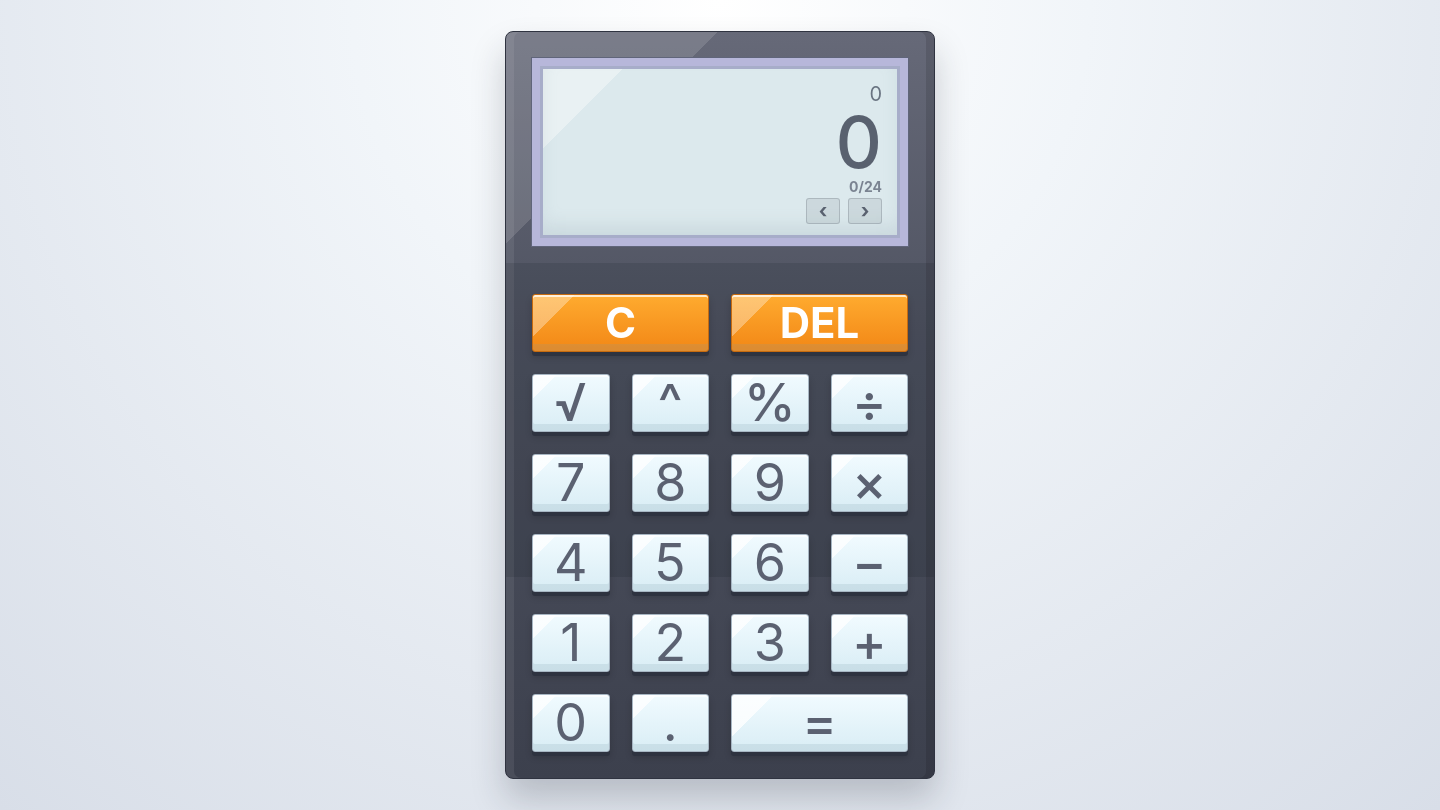
App error handling › clears errors when the user continues editing
Click the button "6" at (770, 563), box [731,534,808,592]
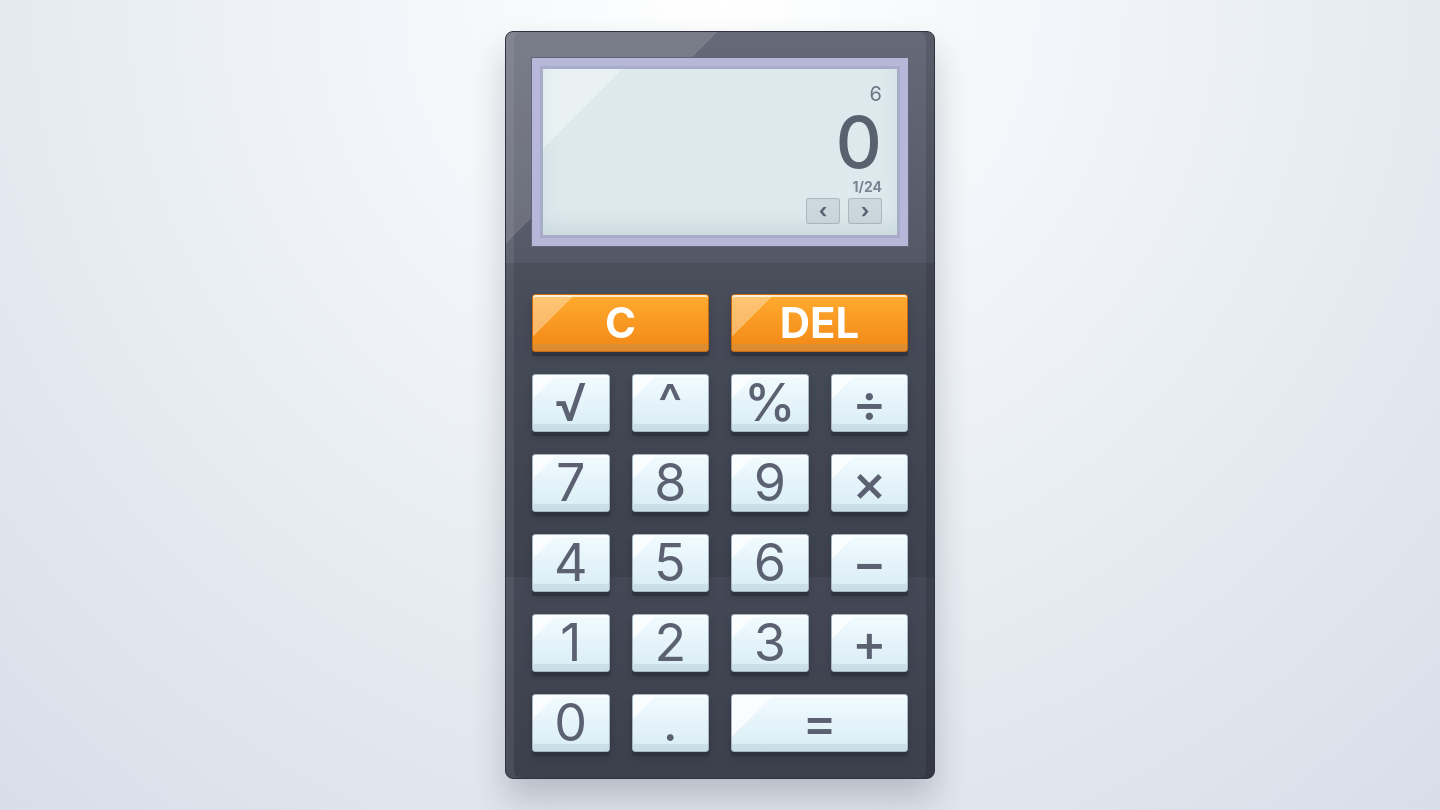
Click the button named "Dividir" at (869, 403), box [830,374,908,432]
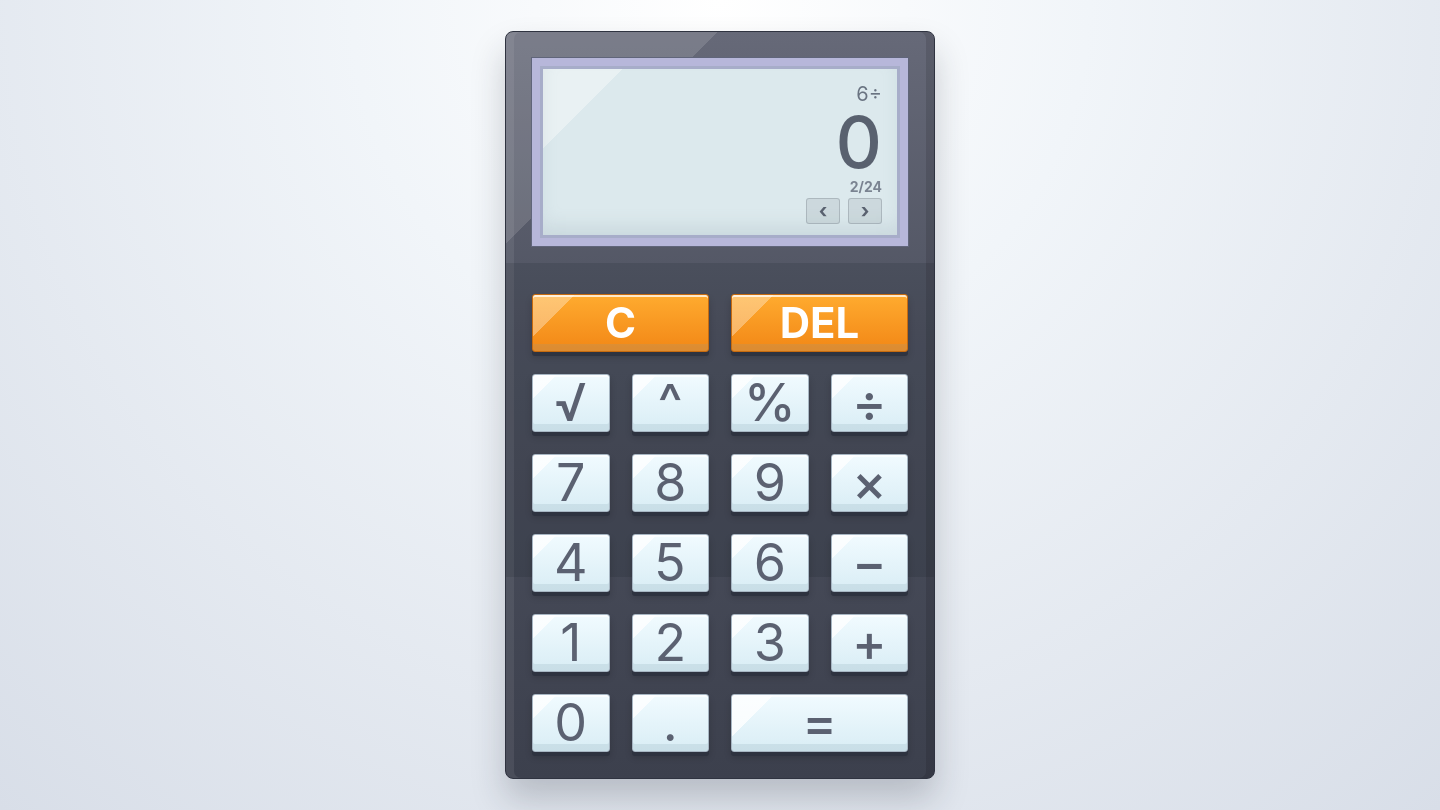
Click the button "0" at (571, 723), box [532,694,610,752]
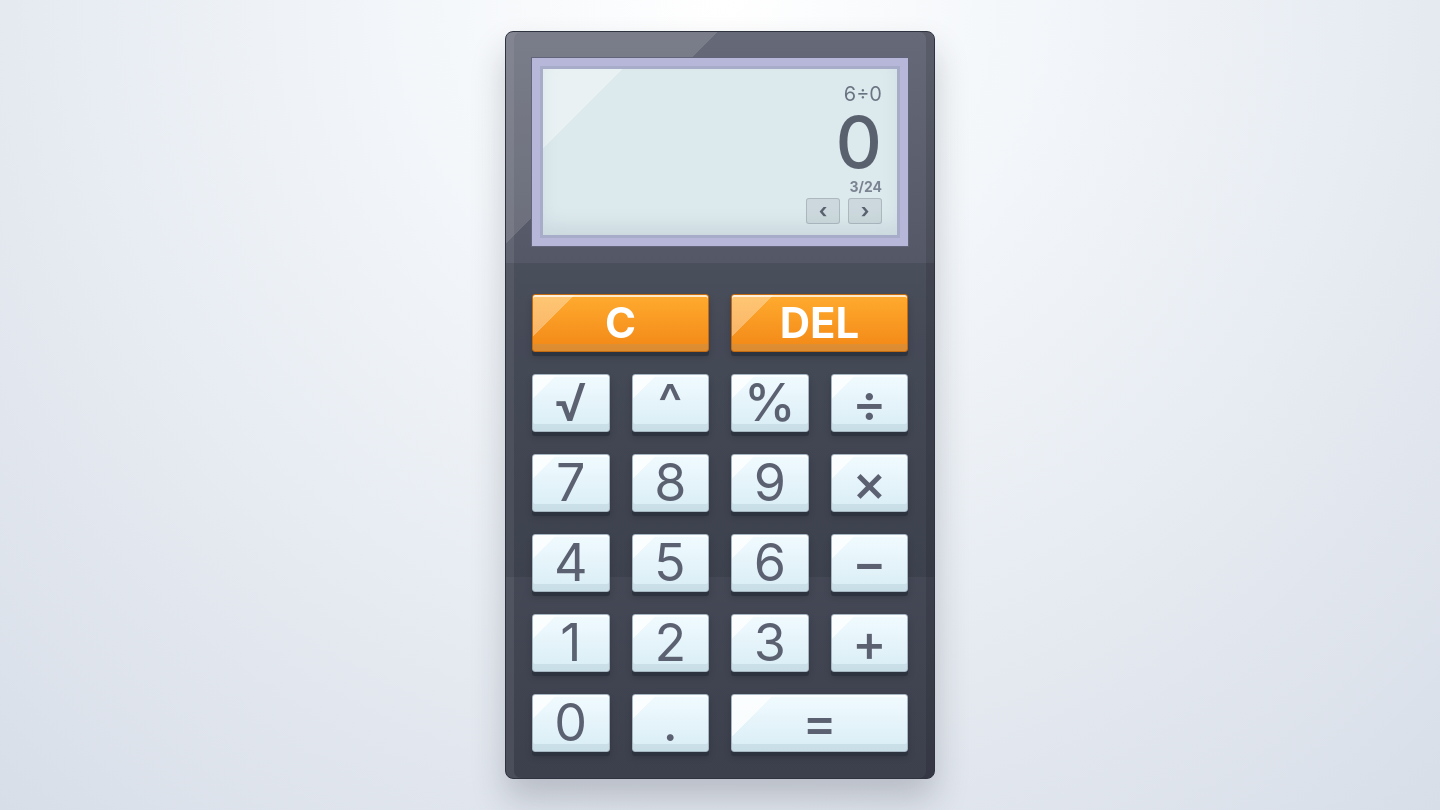
Click the button named "Calcular" at (820, 723), box [731,694,908,752]
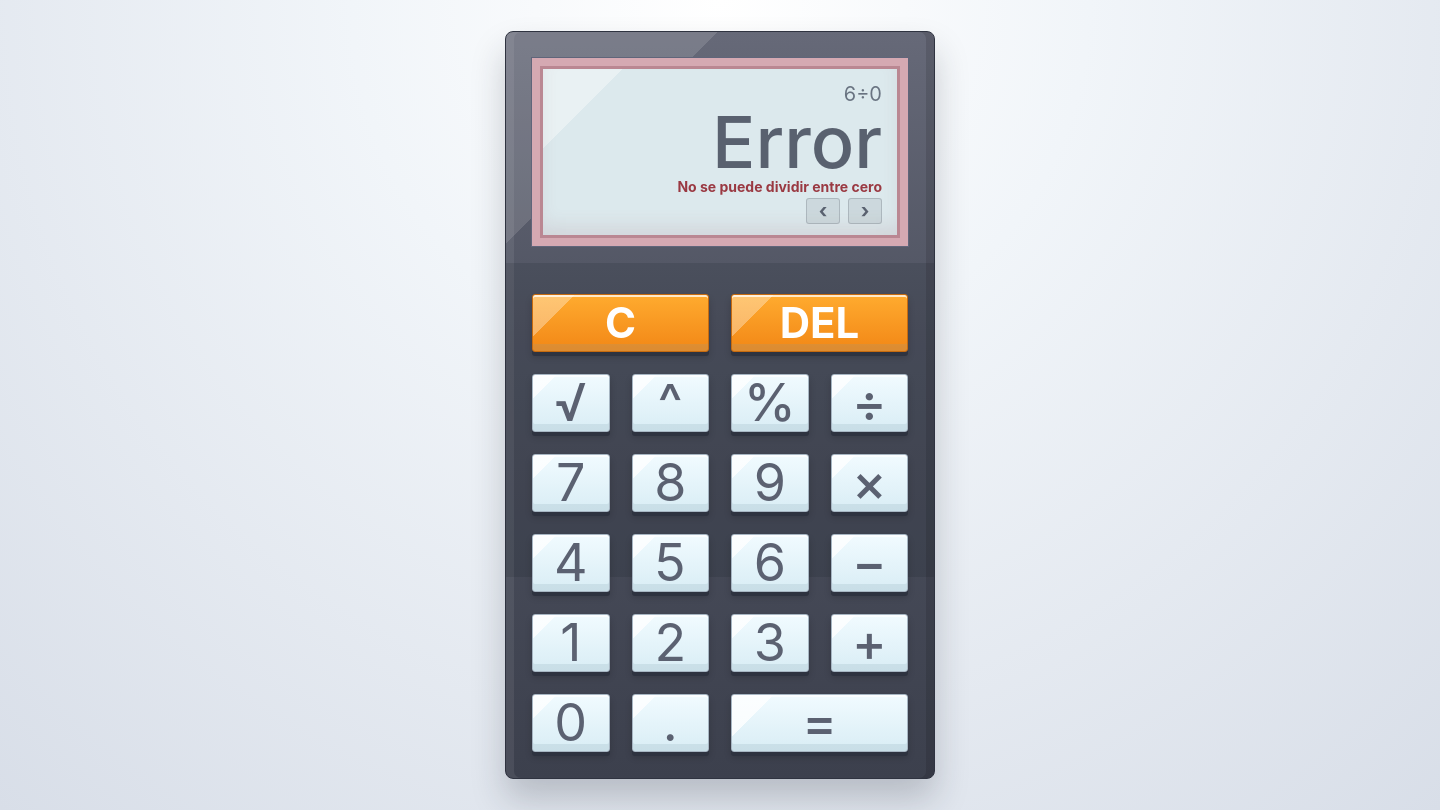
Check: the text with test id "result-display" reads "Error", box [712,98,882,185]
Click the button with aria-label "Eliminar ultimo caracter" at (820, 323), box [731,294,908,352]
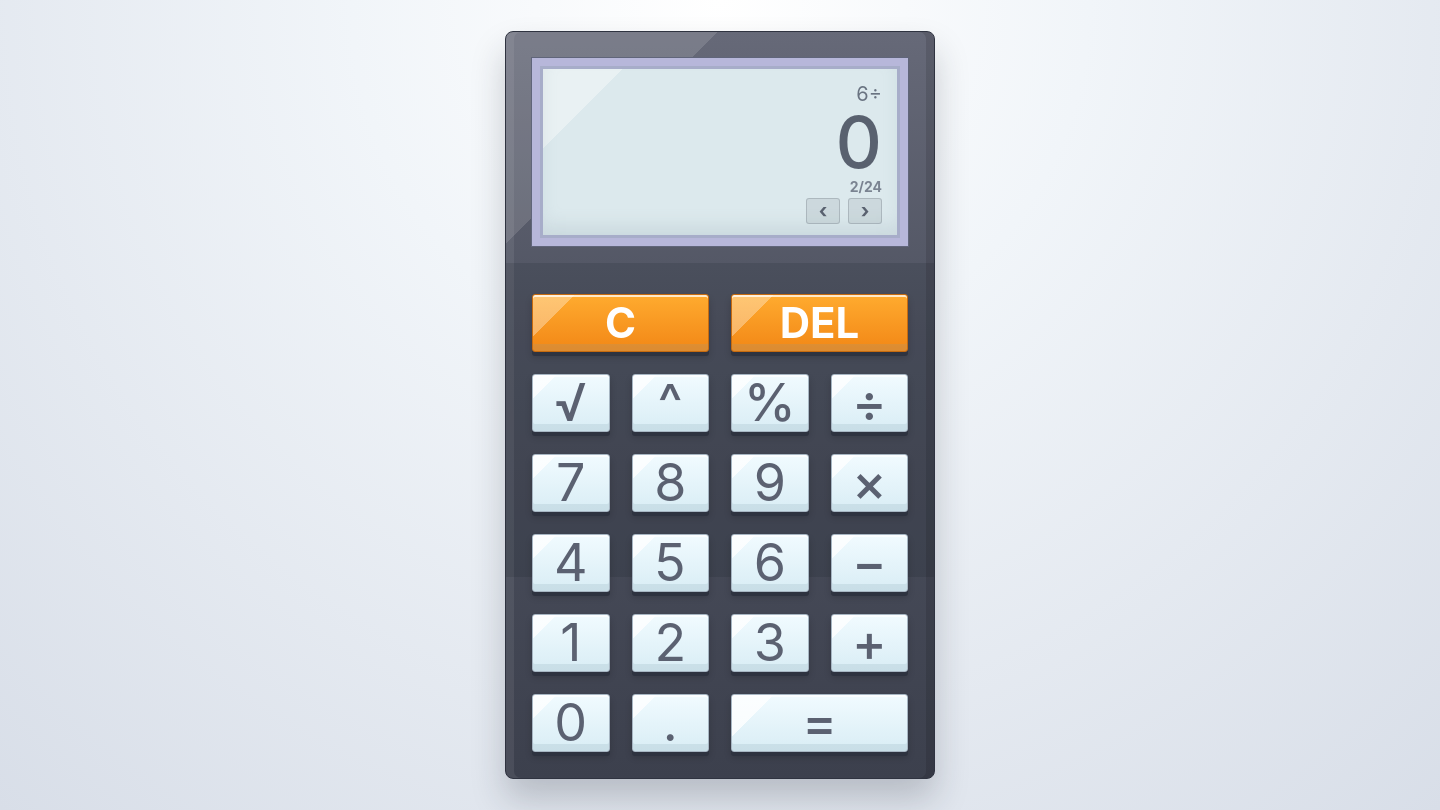
Check: the text with test id "result-display" reads "0", box [836,98,882,185]
